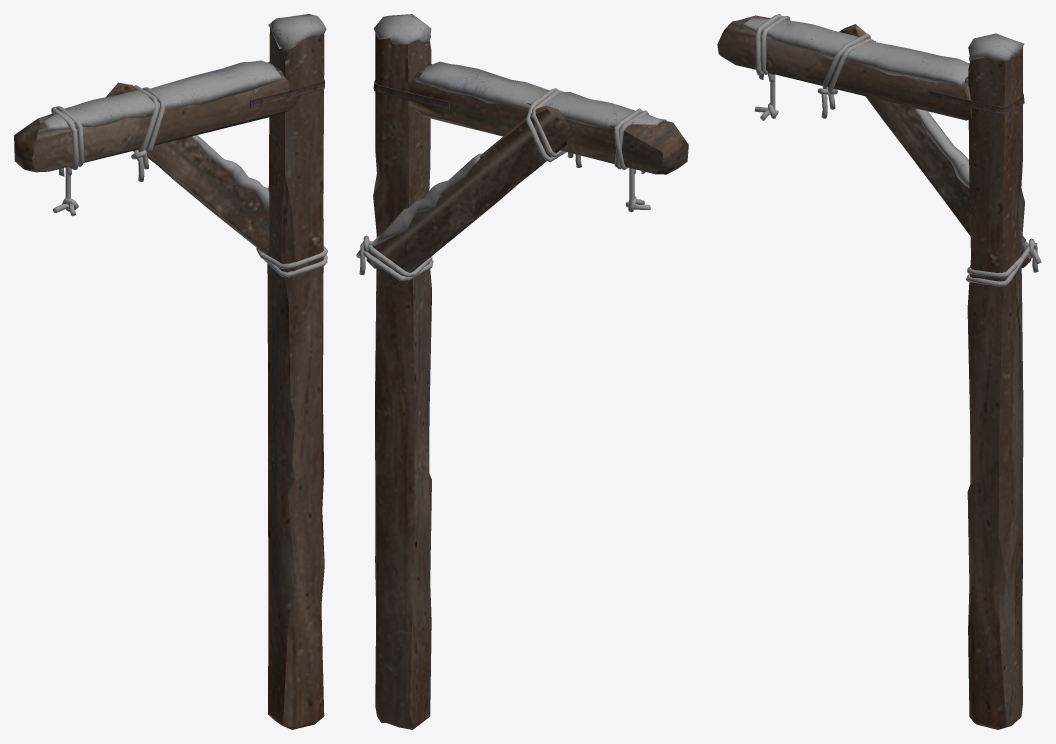
File: Lobby_LampPost.fbx
The picture shows the model from 3 angles, left to right: view 1: azimuth 30°, elevation 25°; view 2: azimuth 150°, elevation 25°; view 3: azimuth 330°, elevation 25°; orthographic projection. The views are drawn at different scales.
Parts seen in each view (by area): view 1: SM_WT_LampPostA_01.mo; view 2: SM_WT_LampPostA_01.mo; view 3: SM_WT_LampPostA_01.mo.
Boxes of the visible parts, box(x1,y1,x2,y2) form: SM_WT_LampPostA_01.mo: box(14, 14, 327, 729); SM_WT_LampPostA_01.mo: box(356, 14, 688, 729); SM_WT_LampPostA_01.mo: box(717, 14, 1041, 729).
Bounding box in the file's own units: 169 × 365 × 31.
